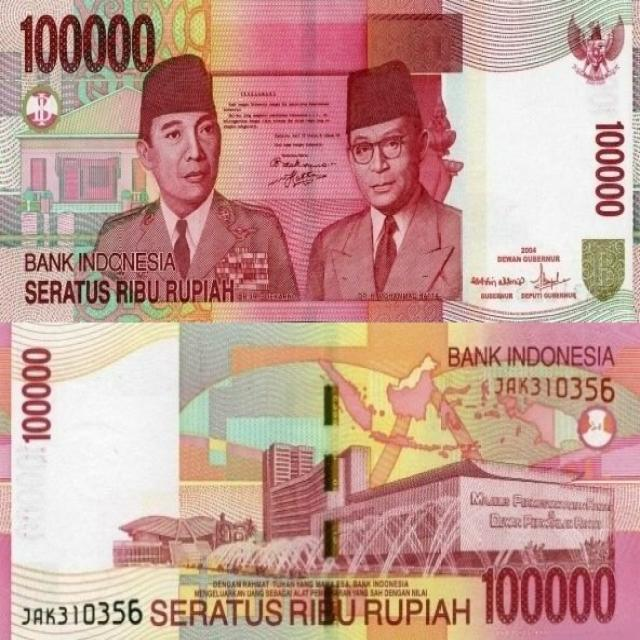seratus ribu rupiah: (0, 0, 640, 323), (0, 322, 640, 640)
